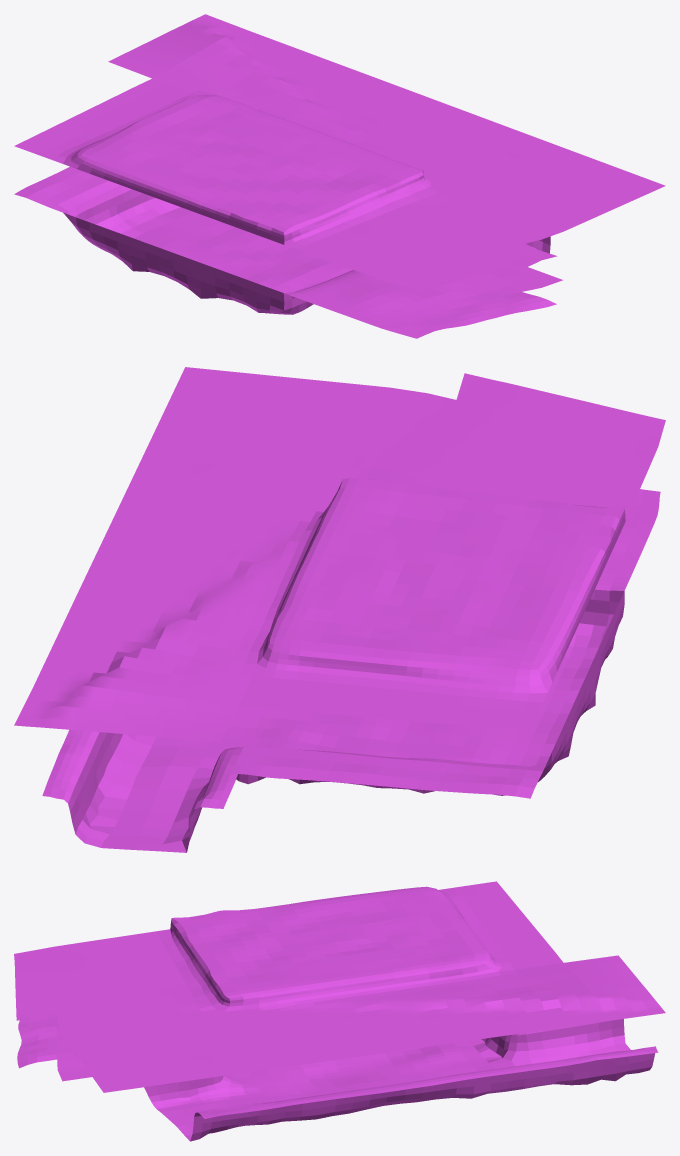
The model's file is Unique 2.fbx.
3 views of the same model, one above another, from view 1: azimuth 30°, elevation 25°; view 2: azimuth 150°, elevation 25°; view 3: azimuth 270°, elevation 25° (orthographic). The views are drawn at different scales.
Parts seen in each view (by area): view 1: Unique_002, Unique_002.001; view 2: Unique_002, Unique_002.001; view 3: Unique_002, Unique_002.001.
Boxes of the visible parts, x1=… form: Unique_002: x1=14, y1=14, x2=665, y2=338; Unique_002.001: x1=95, y1=198, x2=550, y2=314; Unique_002: x1=14, y1=367, x2=665, y2=841; Unique_002.001: x1=75, y1=623, x2=611, y2=852; Unique_002: x1=14, y1=881, x2=665, y2=1133; Unique_002.001: x1=149, y1=1035, x2=651, y2=1141.
Size of the model in its own units: 906 by 190 by 1181.
